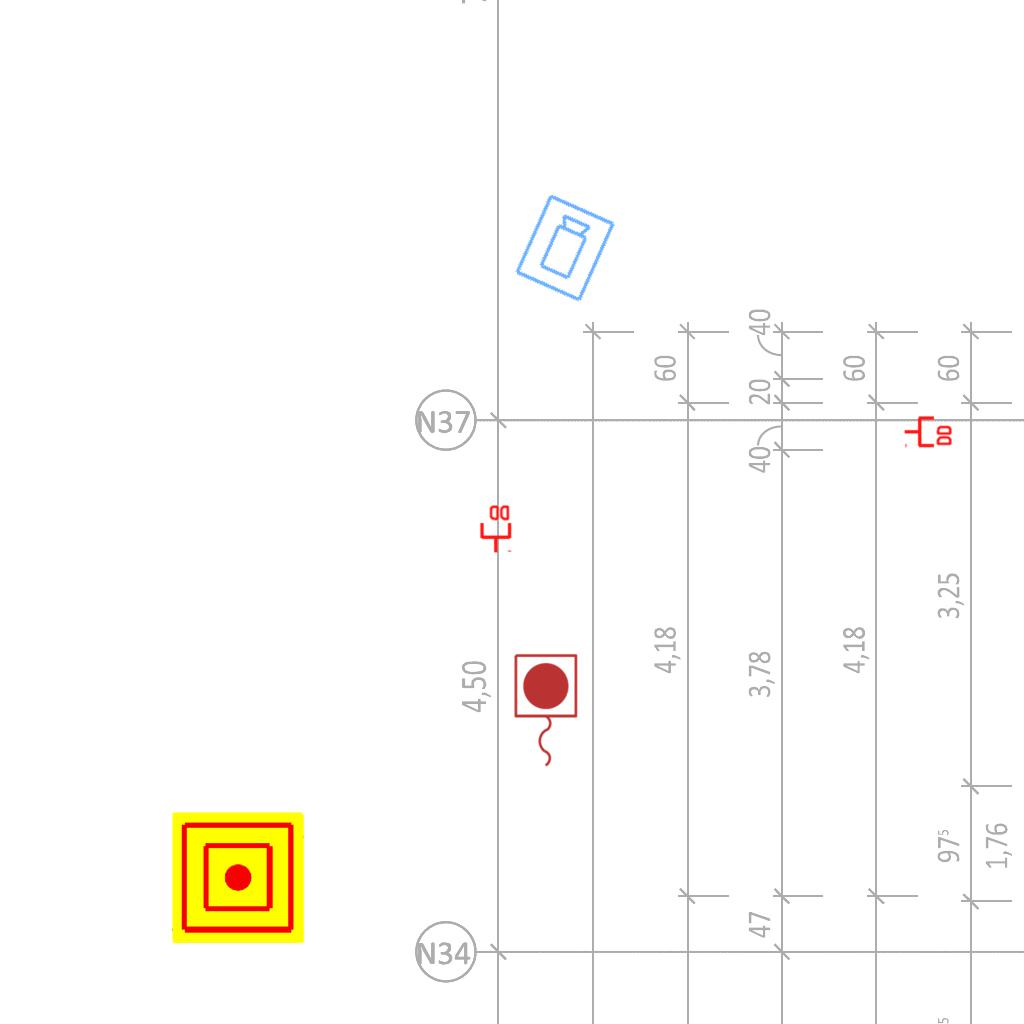Datenanschluss_zweifach: (903, 414, 954, 448), (478, 503, 512, 554)
KFO_Kamera_mit_Festobjektiv: (511, 191, 620, 306)
NAM-Nichtautomatischer_Melder: (172, 812, 304, 944)
Zugtaster: (509, 650, 581, 772)
